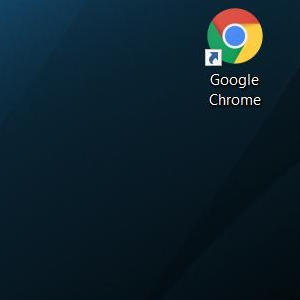chrome: (205, 8, 262, 67)
